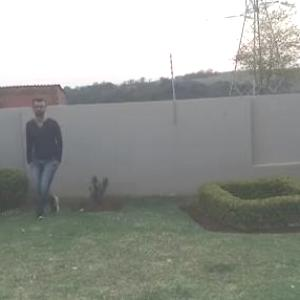follow: (24, 99, 74, 210)
